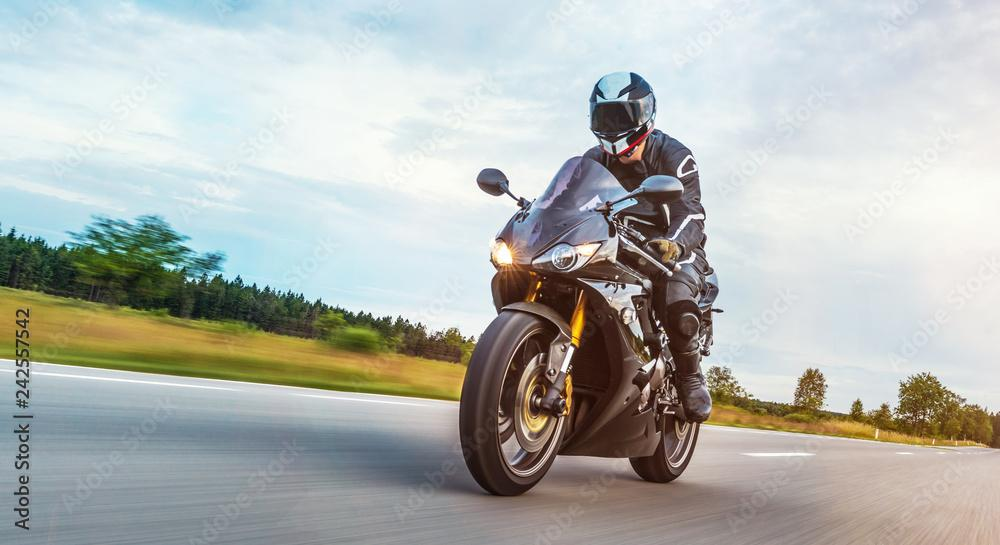helmet: (588, 71, 658, 158)
